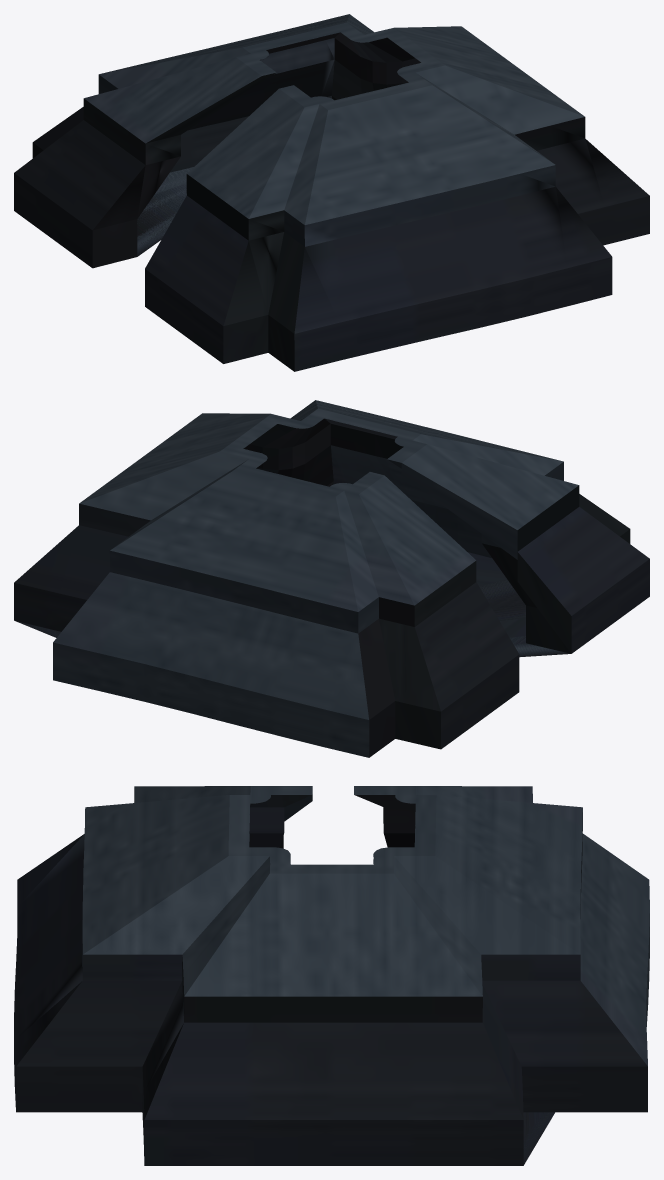
File: collosseum.obj
3 views of the same model, one above another, from view 1: azimuth 30°, elevation 25°; view 2: azimuth 150°, elevation 25°; view 3: azimuth 270°, elevation 25° (orthographic). The views are drawn at different scales.
Parts seen in each view (by area): view 1: Cube.000_Cube.002; view 2: Cube.000_Cube.002; view 3: Cube.000_Cube.002.
Part boxes in pixels (bbox=[...]): Cube.000_Cube.002: bbox=[14, 14, 649, 371]; Cube.000_Cube.002: bbox=[14, 400, 649, 757]; Cube.000_Cube.002: bbox=[14, 786, 649, 1165].
Size of the model in its own units: 2.5 by 0.8832 by 2.52.
